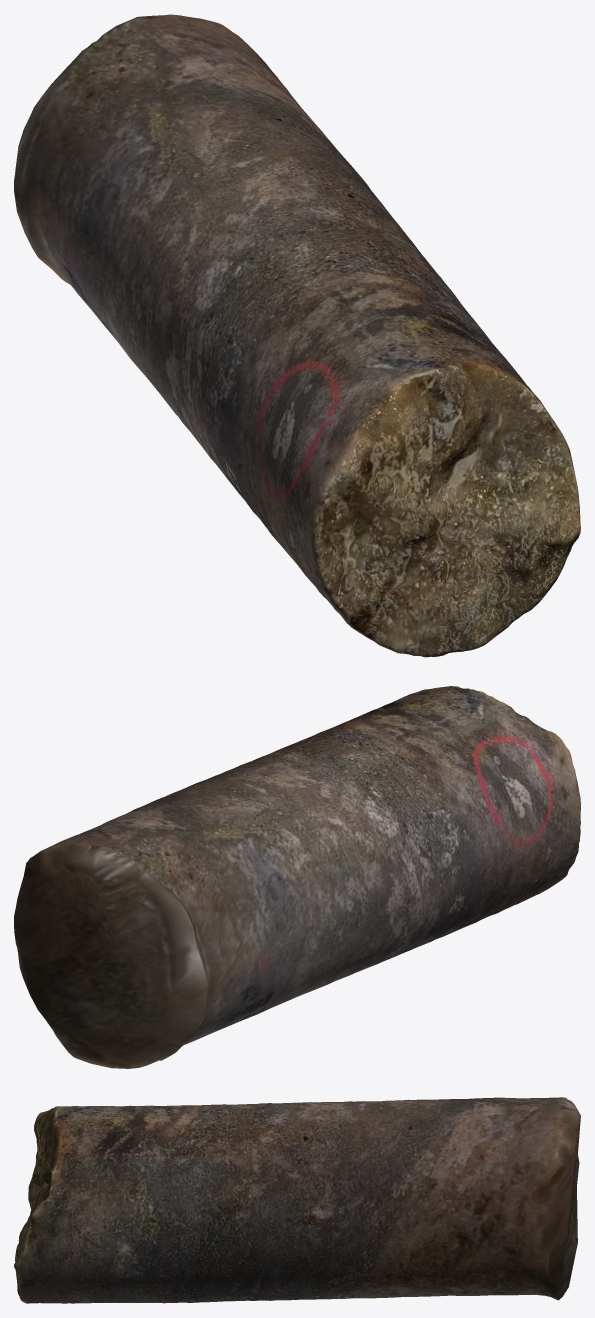
File: PECLD07758 T3.glb
3 renders of one model, top to bottom at view 1: azimuth 30°, elevation 25°; view 2: azimuth 150°, elevation 25°; view 3: azimuth 270°, elevation 25°, orthographic. The views are drawn at different scales.
Visible parts, largest first — view 1: baked_mesh; view 2: baked_mesh; view 3: baked_mesh.
Part boxes in pixels (box(x1,y1,x2,y2)): baked_mesh: box(14, 14, 580, 657); baked_mesh: box(14, 686, 580, 1068); baked_mesh: box(14, 1097, 580, 1303).
Size of the model in its own units: 0.2926 by 0.2665 by 0.6261.
Materials: 1 (1 with a texture image).
